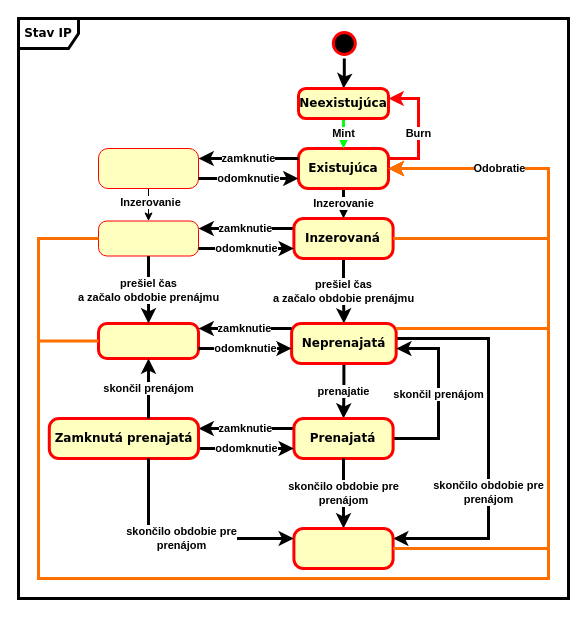
Some shapes in this 587 by 617 pixel diagram are drawn without their labels. Here are the shapes that lost their labels. From the top down, the centre of each, then its label:
(148,168): Zamknutá existujúca
(148,238): Zamknutá inzerovaná
(148,341): Zamknutá neprenajatá
(343,548): Expirovaná
